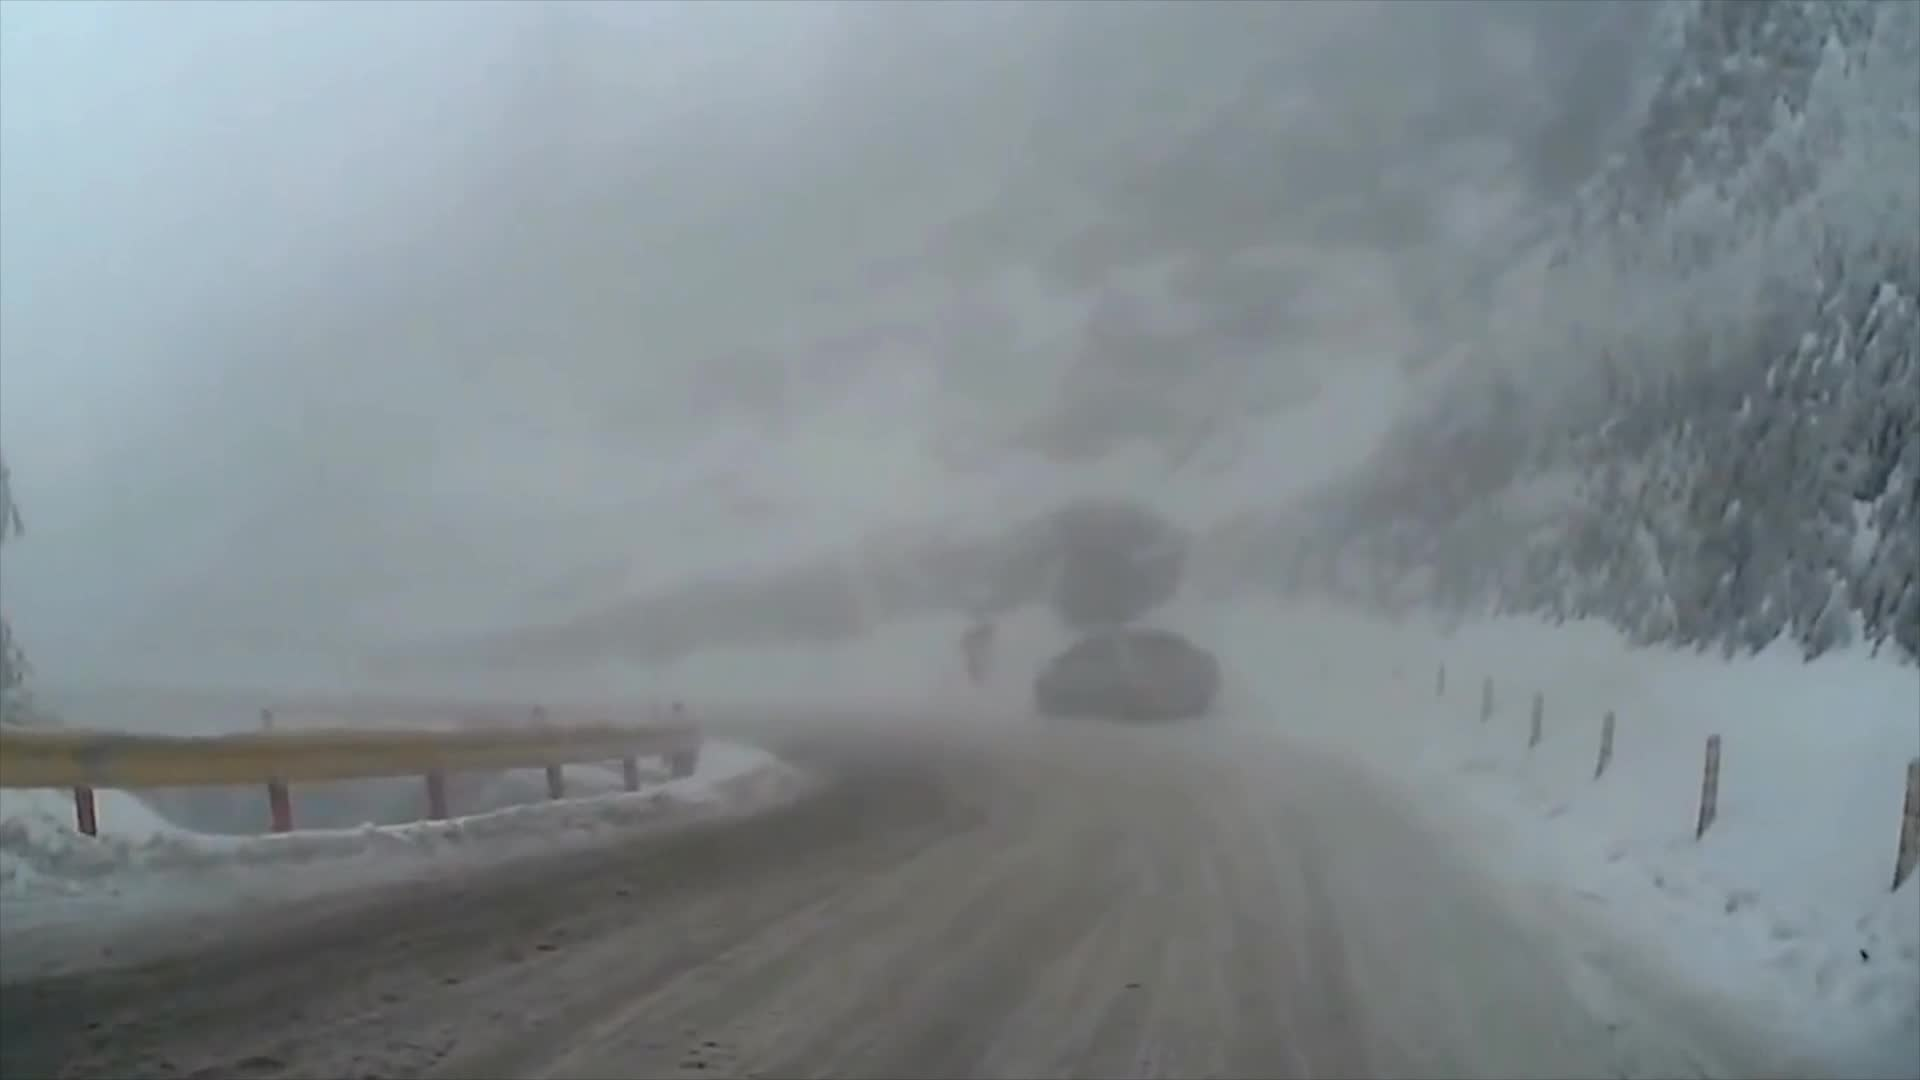pedestrian: (959, 624, 997, 688)
vehicle: (1032, 629, 1218, 723)
